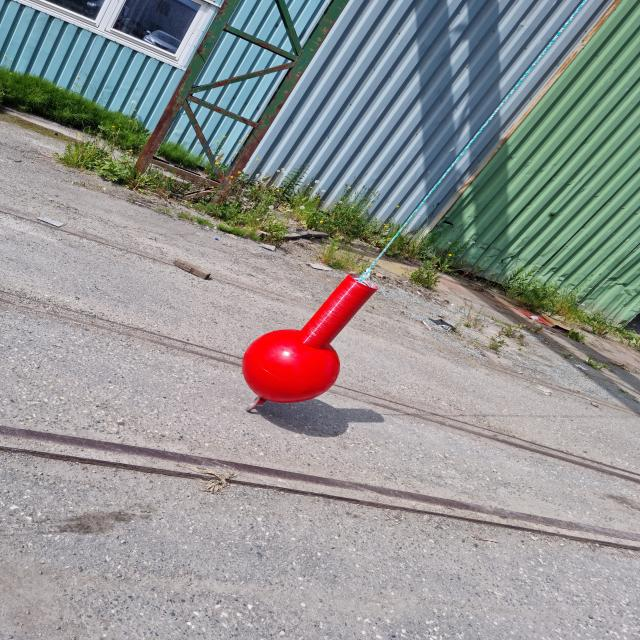red: (242, 274, 378, 402)
